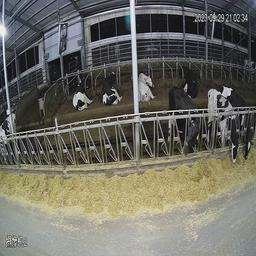cow: (166, 84, 202, 167), (207, 90, 240, 173), (227, 77, 253, 161), (72, 70, 97, 118), (99, 68, 124, 110), (138, 67, 159, 108), (176, 56, 198, 93)
